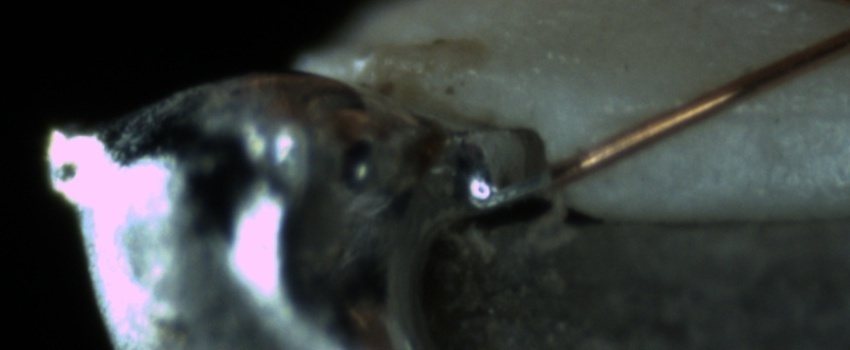DL: (615, 84, 849, 147)
TS: (474, 165, 558, 217)
